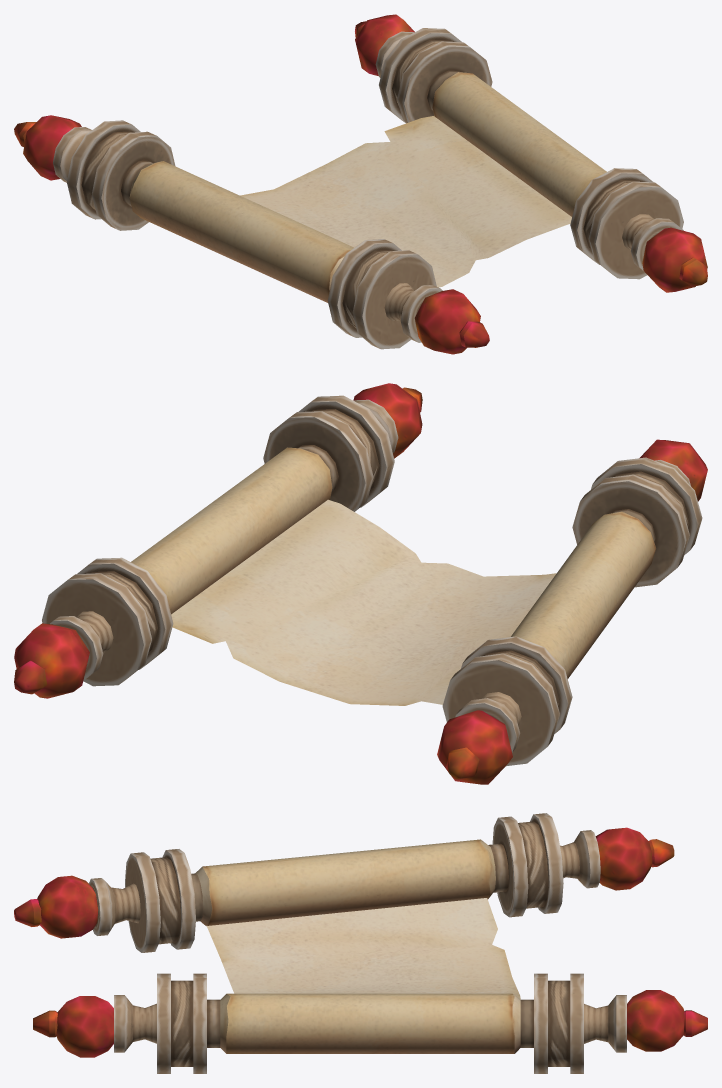
The model's file is SM_Scroll_Open_B.fbx.
3 renders of one model, top to bottom at view 1: azimuth 30°, elevation 25°; view 2: azimuth 150°, elevation 25°; view 3: azimuth 270°, elevation 25°, orthographic. The views are drawn at different scales.
Visible parts, largest first — view 1: SM_Scroll_Open_B_LOD0; view 2: SM_Scroll_Open_B_LOD0; view 3: SM_Scroll_Open_B_LOD0.
Boxes of the visible parts, x1=… form: SM_Scroll_Open_B_LOD0: x1=14, y1=14, x2=707, y2=354; SM_Scroll_Open_B_LOD0: x1=14, y1=383, x2=707, y2=784; SM_Scroll_Open_B_LOD0: x1=14, y1=813, x2=707, y2=1073.
Bounding box in the file's own units: 40.15 × 58.04 × 8.41.
Materials: 1 (1 with a texture image).
